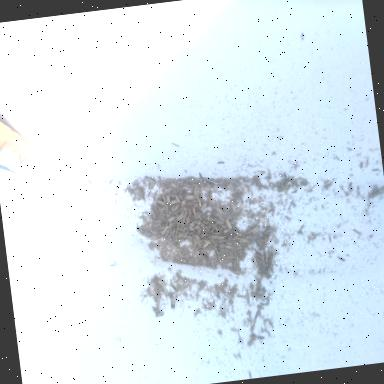pbw: (155, 276, 168, 288), (228, 227, 240, 240), (276, 182, 290, 192), (289, 176, 300, 188), (189, 216, 202, 226), (221, 208, 231, 220), (144, 176, 156, 186), (154, 294, 162, 308), (210, 233, 226, 240), (186, 204, 194, 218), (180, 189, 194, 197), (169, 202, 180, 212), (160, 225, 170, 236), (214, 205, 224, 216), (250, 224, 261, 234), (264, 262, 273, 274), (253, 246, 262, 258), (250, 255, 258, 268), (212, 209, 222, 219), (296, 223, 305, 234), (236, 235, 248, 243), (164, 227, 172, 239), (366, 190, 378, 198), (253, 308, 260, 321), (262, 232, 271, 242), (246, 337, 256, 346), (150, 205, 156, 220), (224, 182, 233, 192), (179, 206, 188, 216), (261, 225, 271, 234), (184, 194, 195, 202), (194, 186, 200, 200), (169, 294, 175, 308), (224, 218, 231, 230), (200, 224, 212, 231), (152, 218, 162, 226), (164, 209, 172, 219), (242, 241, 250, 251), (156, 199, 166, 207), (256, 286, 266, 294), (232, 240, 242, 248), (130, 190, 137, 201), (255, 238, 264, 246), (151, 304, 160, 312), (269, 244, 275, 256), (194, 210, 203, 218), (224, 198, 236, 204), (376, 185, 384, 194), (336, 254, 345, 262), (179, 197, 186, 207), (200, 200, 207, 210), (212, 187, 222, 194), (208, 216, 219, 222), (267, 253, 273, 264), (326, 232, 332, 243), (260, 255, 266, 266), (235, 253, 240, 266), (200, 248, 208, 256), (176, 231, 184, 239), (188, 225, 196, 233), (352, 227, 360, 235), (231, 192, 239, 200), (216, 182, 224, 190), (176, 191, 183, 200), (165, 194, 171, 204), (166, 290, 176, 296), (161, 194, 167, 204), (174, 208, 179, 220), (198, 184, 204, 194), (154, 310, 164, 316), (212, 230, 222, 236), (182, 210, 188, 220), (176, 212, 184, 219), (206, 180, 214, 187), (200, 210, 207, 218), (167, 215, 175, 222), (248, 196, 255, 204), (149, 229, 157, 236), (162, 288, 168, 297), (273, 233, 279, 242), (244, 234, 253, 240), (174, 194, 180, 203), (234, 180, 243, 186), (213, 240, 218, 250), (192, 206, 196, 218), (204, 184, 210, 192), (314, 230, 322, 236), (170, 198, 178, 204), (260, 184, 268, 190), (170, 282, 176, 290), (256, 256, 262, 264), (256, 334, 264, 340), (222, 227, 231, 232), (264, 250, 268, 261), (200, 231, 207, 237), (192, 246, 199, 252), (178, 180, 185, 186), (182, 230, 188, 237), (123, 184, 128, 192), (195, 232, 200, 240), (195, 224, 200, 232), (218, 238, 228, 242), (248, 207, 252, 217), (230, 327, 238, 332), (299, 180, 307, 185), (192, 256, 198, 262), (148, 182, 154, 188), (204, 238, 210, 244), (170, 182, 176, 188), (176, 179, 180, 188), (189, 221, 195, 227), (290, 188, 297, 193), (218, 243, 225, 248), (225, 244, 232, 249), (370, 167, 378, 171), (196, 250, 200, 258), (156, 180, 164, 184), (216, 160, 224, 164), (207, 178, 215, 182), (163, 188, 171, 192), (232, 270, 240, 274), (227, 255, 235, 259), (267, 208, 275, 212), (166, 193, 174, 197), (182, 225, 188, 230), (186, 234, 192, 239), (218, 216, 224, 221), (193, 223, 199, 228), (218, 220, 225, 224), (221, 224, 228, 228), (212, 180, 219, 184), (236, 294, 243, 298), (344, 190, 348, 196), (198, 198, 201, 206), (174, 234, 177, 242), (198, 172, 202, 178), (168, 222, 174, 226), (270, 205, 276, 209), (204, 209, 210, 213), (171, 232, 174, 240), (199, 222, 204, 226), (226, 240, 231, 244), (172, 228, 175, 234), (158, 242, 164, 245), (179, 186, 181, 194), (165, 238, 169, 242), (204, 190, 208, 194), (156, 242, 158, 250), (204, 176, 208, 180), (193, 199, 198, 202), (284, 174, 286, 180), (207, 216, 210, 220)
